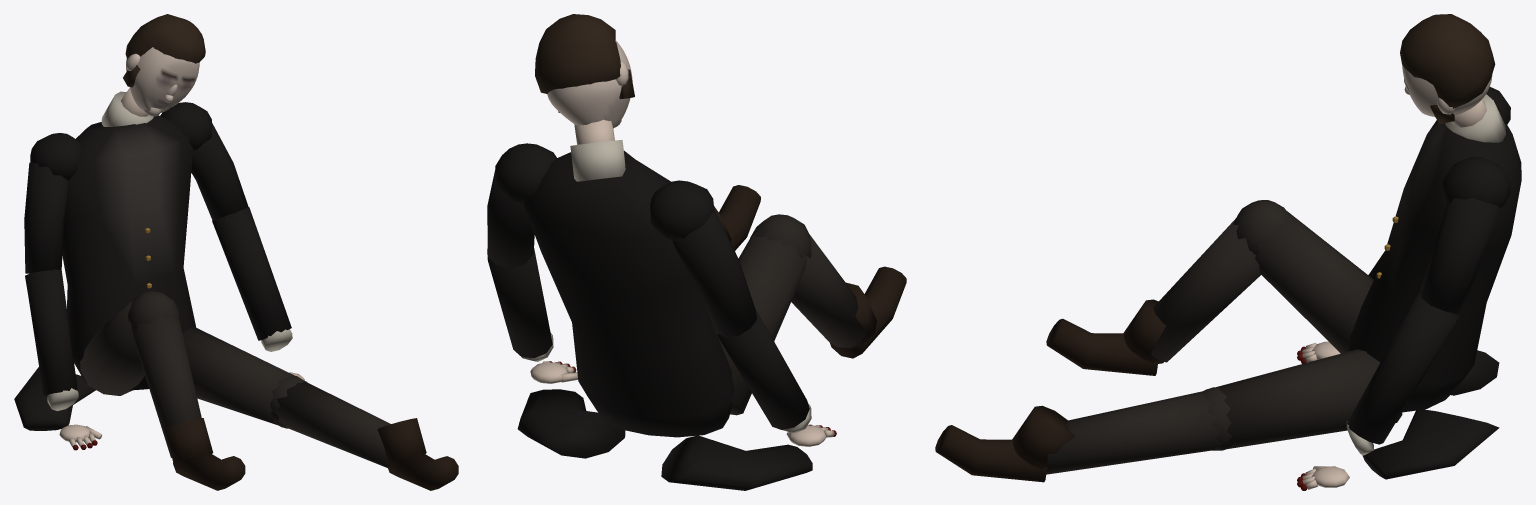
File: elias-body.glb
The picture shows the model from 3 angles, left to right: view 1: azimuth 30°, elevation 25°; view 2: azimuth 150°, elevation 25°; view 3: azimuth 270°, elevation 25°; orthographic projection. The views are drawn at different scales.
Parts seen in each view (by area): view 1: elias-body-coat, elias-body-trousers, elias-body-boots, elias-body-face, elias-body-hair, elias-body-shirt; view 2: elias-body-coat, elias-body-trousers, elias-body-hair, elias-body-face, elias-body-boots, elias-body-shirt; view 3: elias-body-coat, elias-body-trousers, elias-body-boots, elias-body-hair, elias-body-face, elias-body-shirt.
Boxes of the visible parts, bbox=[...] form: elias-body-coat: bbox=[14, 102, 291, 430]; elias-body-trousers: bbox=[80, 291, 391, 467]; elias-body-boots: bbox=[164, 418, 458, 490]; elias-body-face: bbox=[59, 47, 307, 447]; elias-body-hair: bbox=[123, 14, 205, 87]; elias-body-shirt: bbox=[47, 91, 292, 411]; elias-body-coat: bbox=[487, 143, 812, 490]; elias-body-trousers: bbox=[712, 214, 866, 415]; elias-body-hair: bbox=[535, 14, 634, 112]; elias-body-face: bbox=[530, 40, 834, 446]; elias-body-boots: bbox=[714, 185, 906, 358]; elias-body-shirt: bbox=[522, 140, 811, 433]; elias-body-coat: bbox=[1347, 87, 1521, 479]; elias-body-trousers: bbox=[1046, 200, 1402, 474]; elias-body-boots: bbox=[935, 299, 1165, 482]; elias-body-hair: bbox=[1400, 14, 1495, 124]; elias-body-face: bbox=[1302, 65, 1492, 489]; elias-body-shirt: bbox=[1346, 94, 1505, 455].
Size of the model in its own units: 0.7673 by 1.02 by 1.27.
